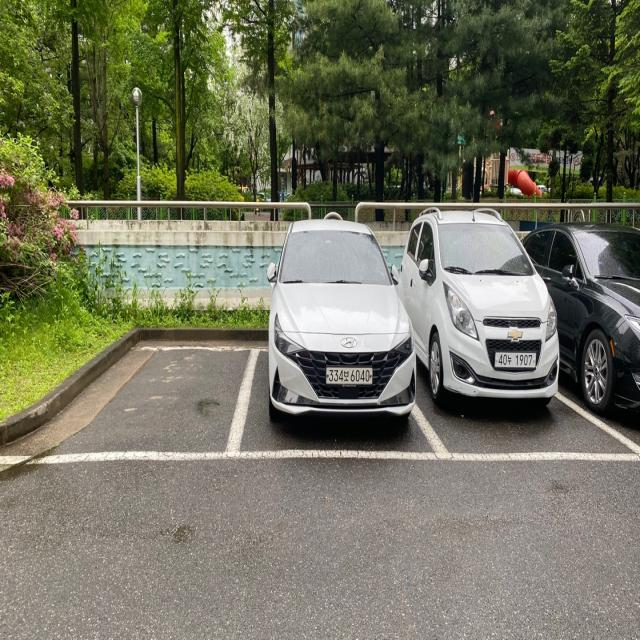empty: (1, 337, 262, 464)
occupied: (267, 214, 417, 436), (414, 209, 562, 414), (561, 218, 640, 422)
